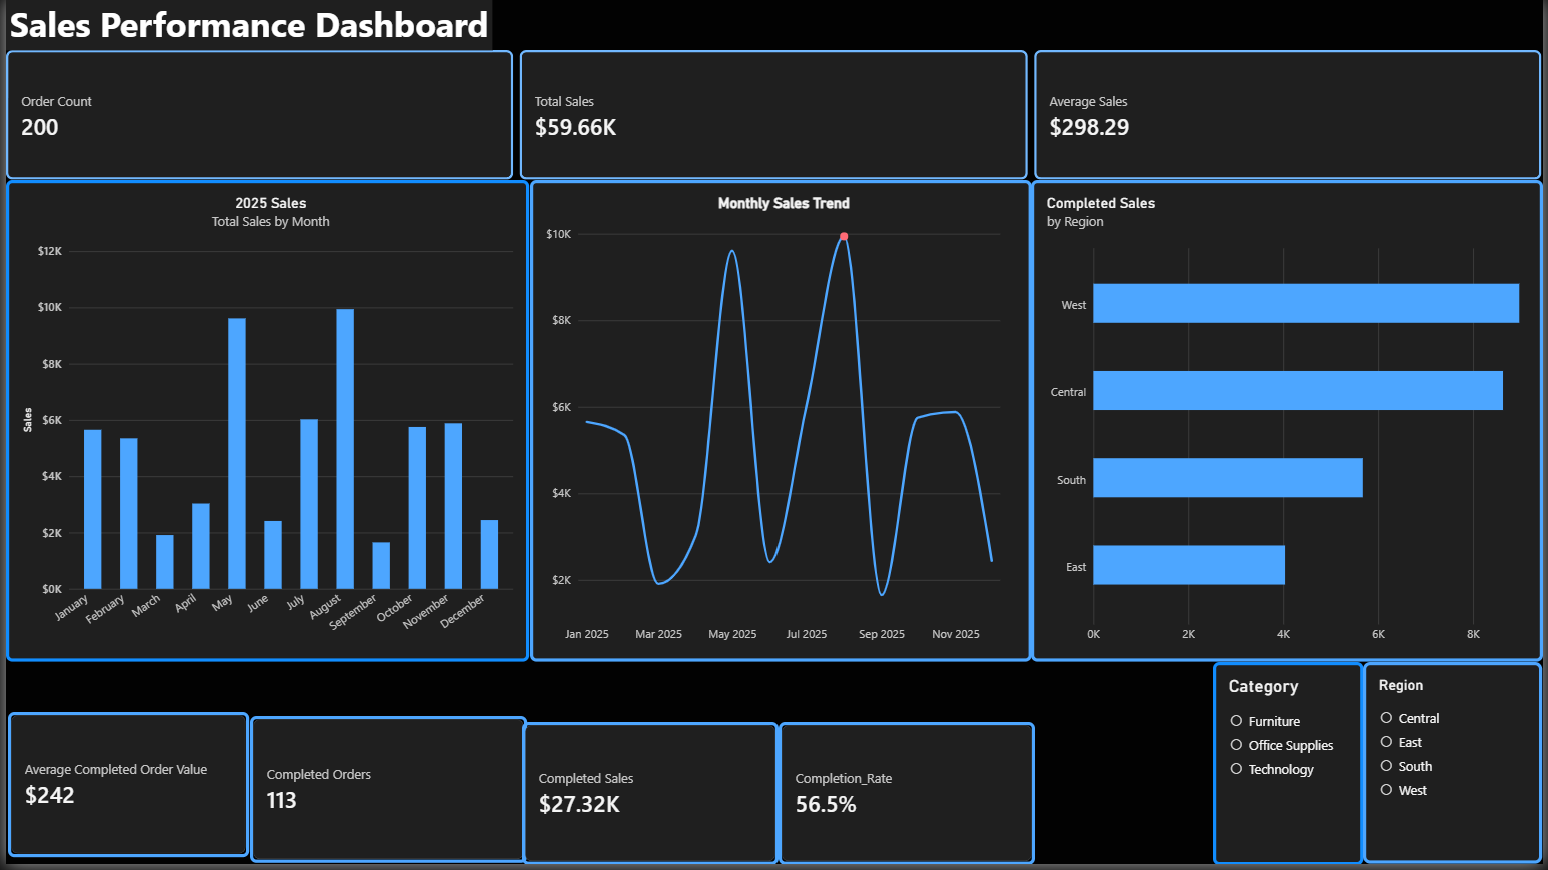

The page's visual inventory and layout, read from the dashboard file:
{"tool":"powerbi","page":{"name":"Sales Overview","canvas":[1920,1080],"ordinal":0},"visuals":[{"type":"columnChart","title":"2025 Sales","fields":{"Category":["powerbi_beginner_sales.OrderDate.Variation.Date Hierarchy.Month1"],"Y":["Sum(powerbi_beginner_sales.Sales)"]},"box":[0,226,654,602],"z":0},{"type":"cardVisual","fields":{"Data":["CountNonNull(powerbi_beginner_sales.OrderID)","Sum(powerbi_beginner_sales.Sales)","Avg(powerbi_beginner_sales.Sales)"]},"box":[0,63.1,1920,162.5],"z":1000},{"type":"lineChart","title":"Monthly Sales Trend","fields":{"Category":["powerbi_beginner_sales.OrderDate.Variation.Date Hierarchy.Year","powerbi_beginner_sales.OrderDate.Variation.Date Hierarchy.Month"],"Y":["Sum(powerbi_beginner_sales.Sales)"]},"box":[654,226,626,602],"z":2000},{"type":"listSlicer","fields":{"Values":["powerbi_beginner_sales.Category"]},"box":[1508,828,188,254],"z":3000},{"type":"textbox","box":[0,0,608.1,63.1],"z":4000},{"type":"cardVisual","fields":{"Data":["powerbi_beginner_sales.Completed Orders"]},"box":[304,896,346.7,183.3],"z":5000},{"type":"cardVisual","fields":{"Data":["powerbi_beginner_sales.Completed Sales"]},"box":[646,902,320,178.3],"z":6000},{"type":"clusteredBarChart","fields":{"Category":["powerbi_beginner_sales.Region"],"Y":["powerbi_beginner_sales.Completed Sales"]},"box":[1280,226,640,602],"z":7000},{"type":"listSlicer","fields":{"Values":["powerbi_beginner_sales.Region"]},"box":[1696,828,224,252],"z":8000},{"type":"cardVisual","fields":{"Data":["powerbi_beginner_sales.Average Completed Order Value"]},"box":[2,890,301.7,181.7],"z":9000},{"type":"cardVisual","fields":{"Data":["powerbi_beginner_sales.Completion_Rate"]},"box":[966,902,320,178.3],"z":10000}]}

Visuals, with their boxes in screenshot pixels (x1, y1, x2, y2), scaled from the page's 1920x1080 canvas onto the 1548x870 screenshot:
"2025 Sales" columnChart: [x1=0, y1=182, x2=527, y2=667]
cardVisual - CountNonNull(powerbi_beginner_sales.OrderID) x Sum(powerbi_beginner_sales.Sales): [x1=0, y1=51, x2=1547, y2=182]
"Monthly Sales Trend" lineChart: [x1=527, y1=182, x2=1032, y2=667]
listSlicer - powerbi_beginner_sales.Category: [x1=1216, y1=667, x2=1367, y2=869]
textbox: [x1=0, y1=0, x2=490, y2=51]
cardVisual - powerbi_beginner_sales.Completed Orders: [x1=245, y1=722, x2=525, y2=869]
cardVisual - powerbi_beginner_sales.Completed Sales: [x1=521, y1=727, x2=779, y2=869]
clusteredBarChart - powerbi_beginner_sales.Region x powerbi_beginner_sales.Completed Sales: [x1=1032, y1=182, x2=1547, y2=667]
listSlicer - powerbi_beginner_sales.Region: [x1=1367, y1=667, x2=1547, y2=869]
cardVisual - powerbi_beginner_sales.Average Completed Order Value: [x1=2, y1=717, x2=245, y2=863]
cardVisual - powerbi_beginner_sales.Completion_Rate: [x1=779, y1=727, x2=1037, y2=869]
